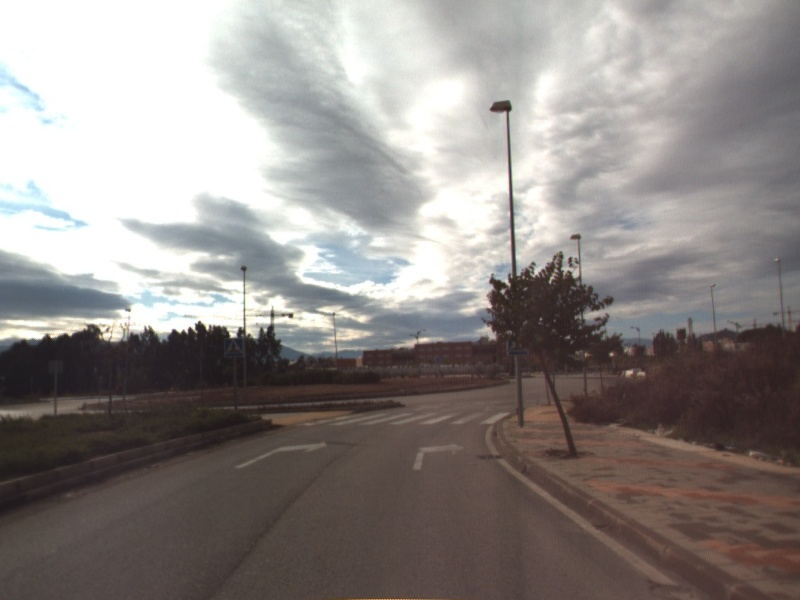RIGHT: (232, 437, 329, 470), (411, 439, 466, 472)
